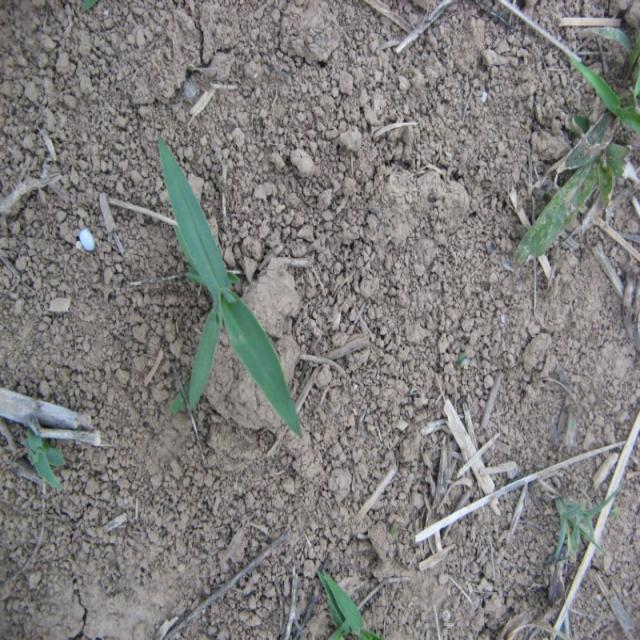bg: (147, 125, 313, 442)
